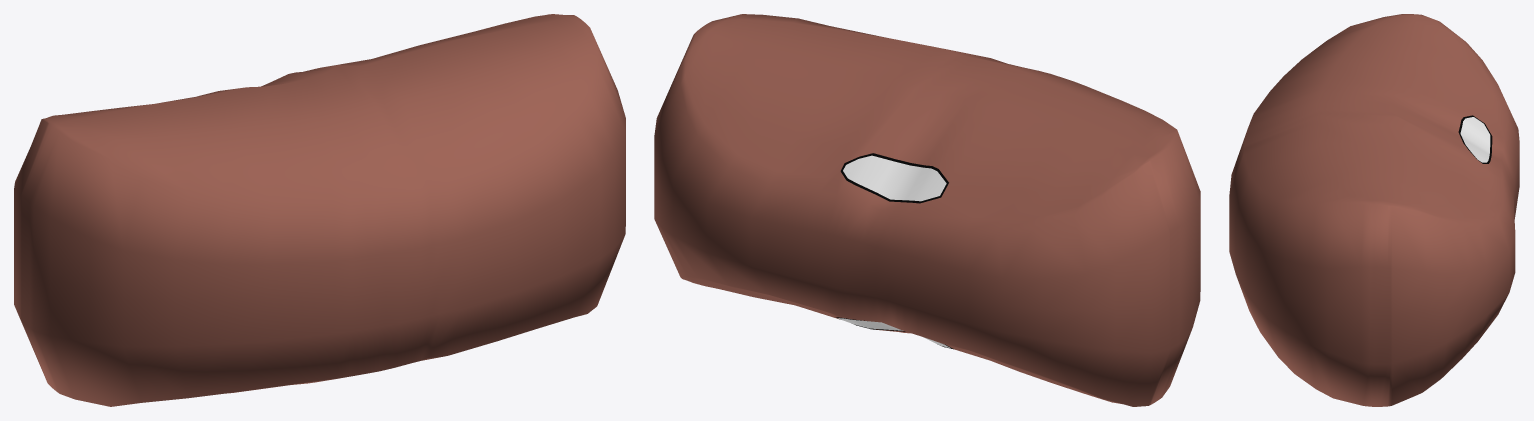
The model's file is BeanSeed.fbx.
3 views of the same model, side by side, from view 1: azimuth 30°, elevation 25°; view 2: azimuth 150°, elevation 25°; view 3: azimuth 270°, elevation 25° (orthographic). The views are drawn at different scales.
Parts seen in each view (by area): view 1: Cylinder.001; view 2: Cylinder.001; view 3: Cylinder.001.
Part boxes in pixels (x1=…): Cylinder.001: x1=14, y1=14, x2=625, y2=406; Cylinder.001: x1=654, y1=14, x2=1200, y2=406; Cylinder.001: x1=1229, y1=14, x2=1519, y2=406.
Bounding box in the file's own units: 28.47 × 12.8 × 16.62.
